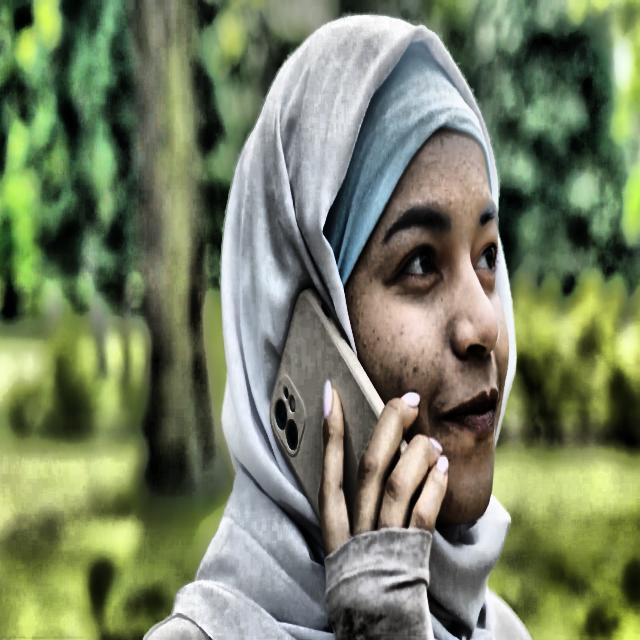Phone: (268, 278, 416, 542)
